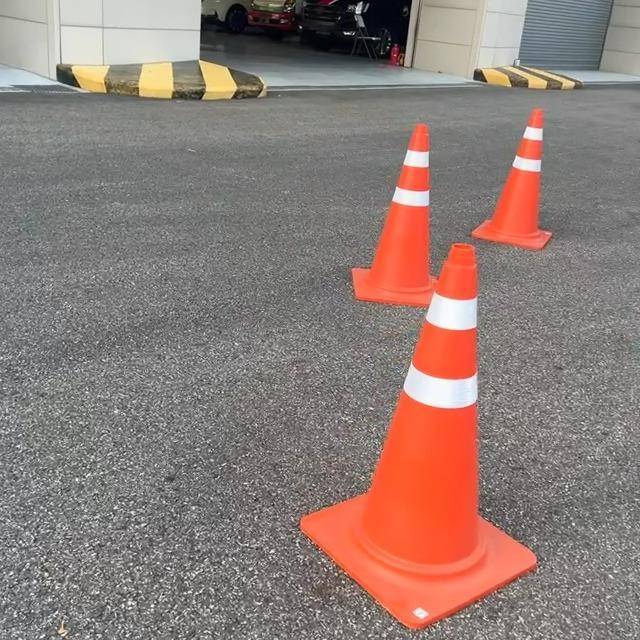fallen_object: (249, 243, 529, 606), (335, 122, 451, 293), (475, 119, 574, 265)
